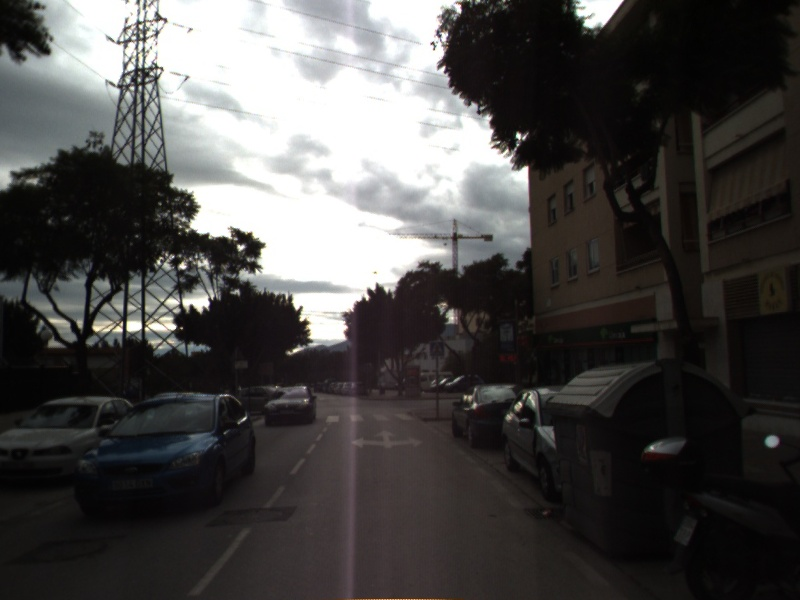STRAIGHT_LEFT_RIGHT: (349, 427, 426, 450)
